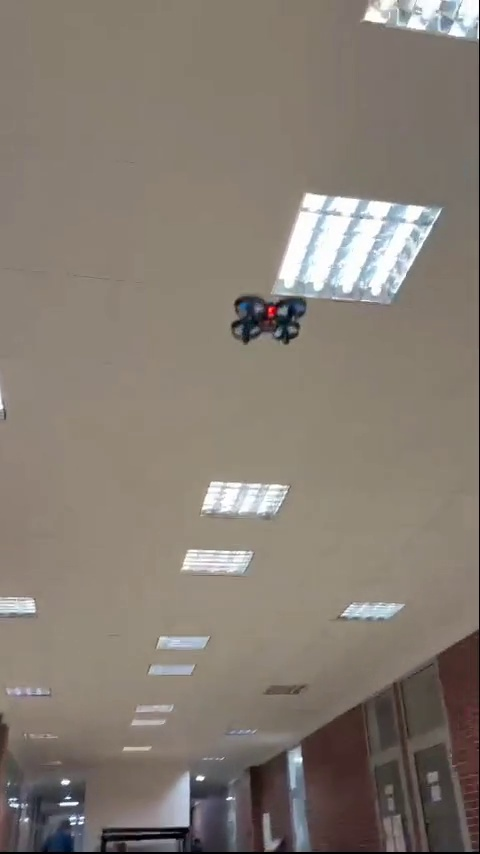drone: (229, 299, 309, 348)
